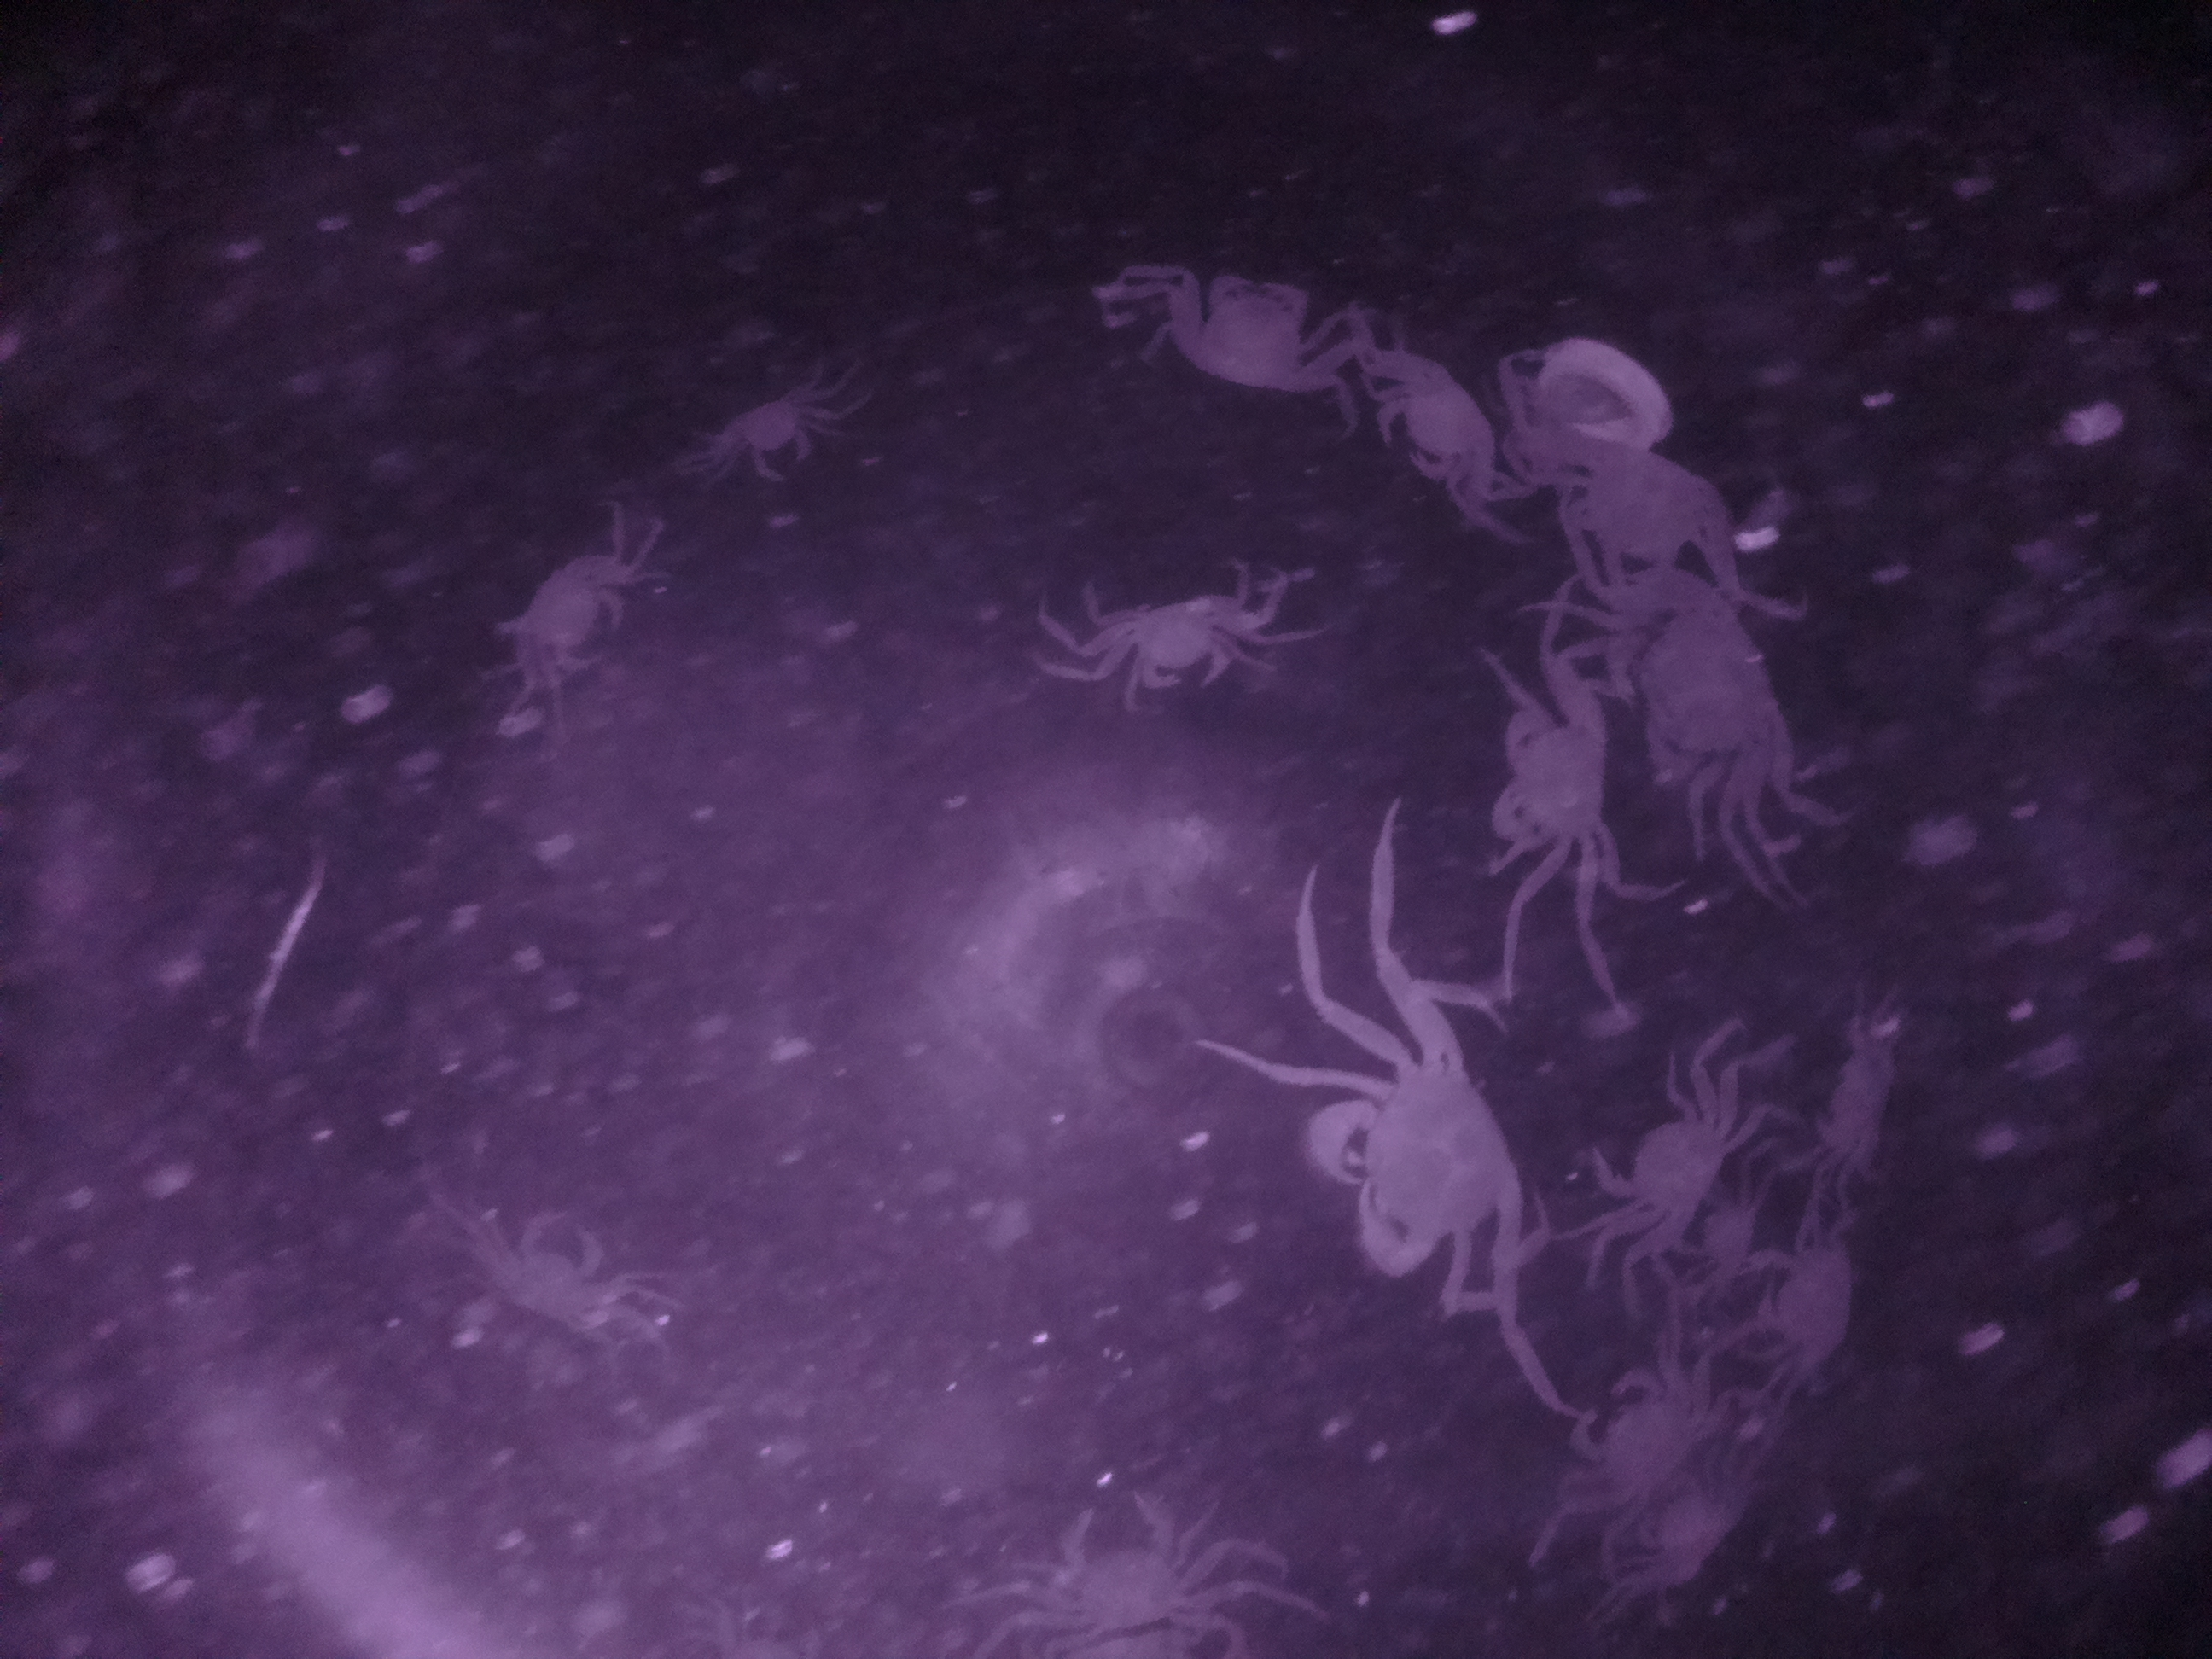Crab: (1277, 1014, 1545, 1309), (1536, 1330, 1721, 1542), (1014, 1476, 1214, 1647), (1576, 1060, 1737, 1263), (1484, 671, 1627, 896), (1148, 258, 1339, 404), (1346, 340, 1512, 498), (1090, 584, 1252, 709), (705, 380, 840, 495)
